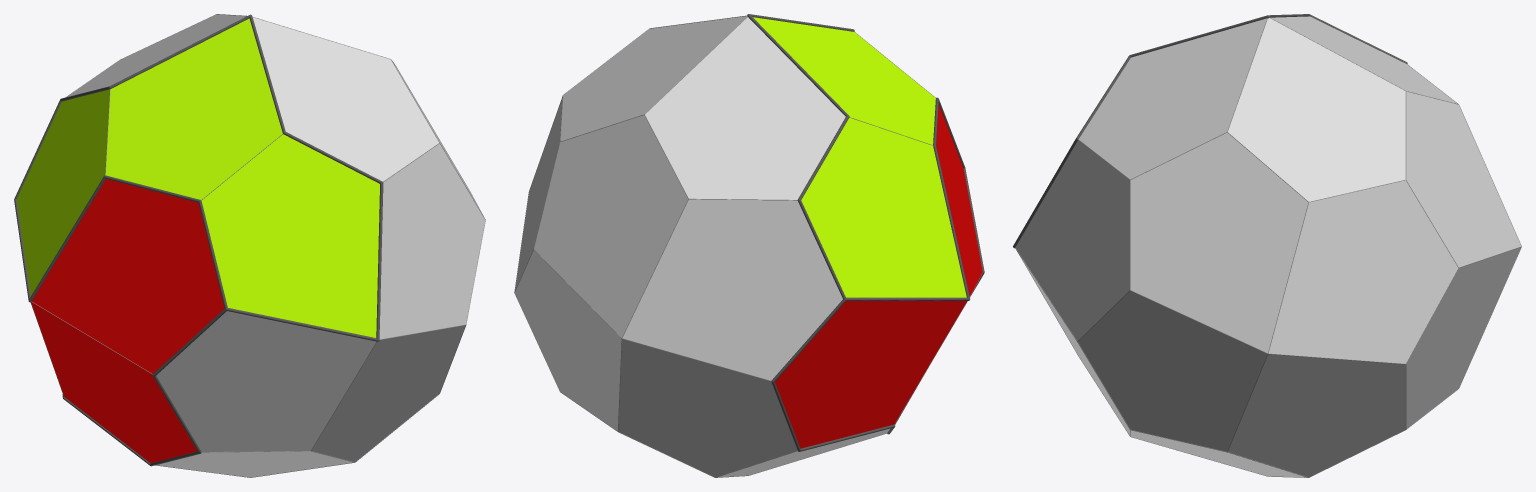
File: PentagonalIcositetrahedron_puzzle-x.glb
3 renders of one model, left to right at view 1: azimuth 30°, elevation 25°; view 2: azimuth 150°, elevation 25°; view 3: azimuth 270°, elevation 25°, orthographic.
Bounding box in the file's own units: 4.61 × 4.61 × 4.61.
